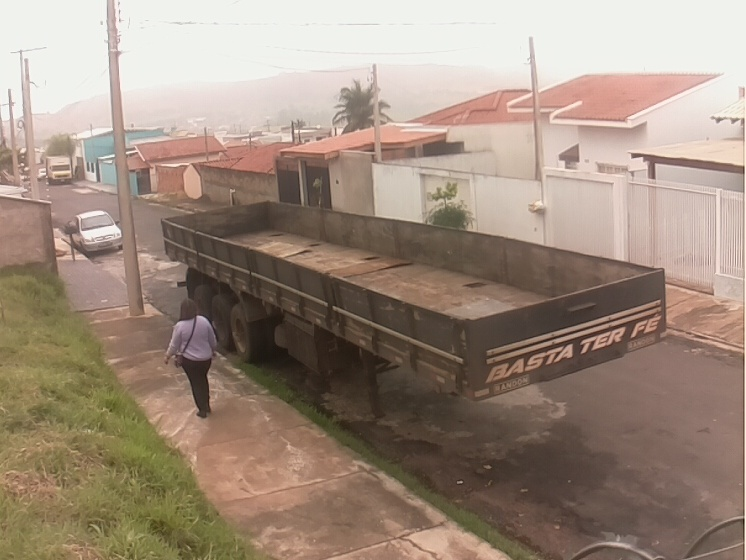person: (161, 298, 219, 418)
